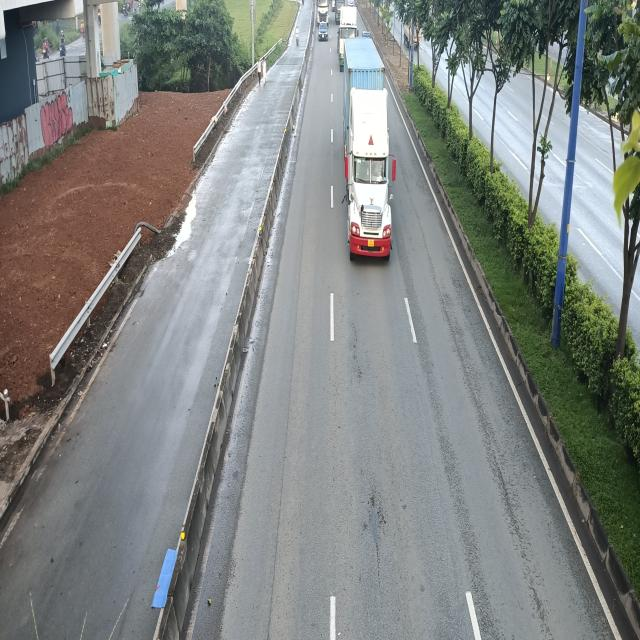car: (318, 22, 329, 41)
container: (343, 37, 396, 262)
